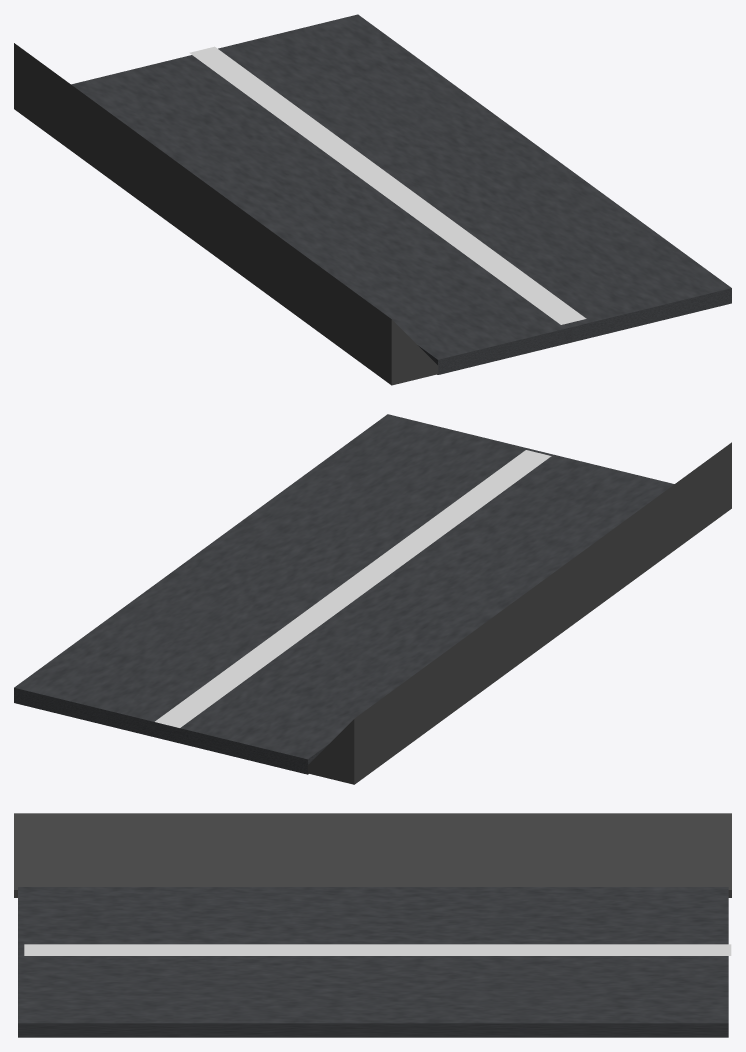
The model's file is roadTexture.fbx.
3 renders of one model, top to bottom at view 1: azimuth 30°, elevation 25°; view 2: azimuth 150°, elevation 25°; view 3: azimuth 270°, elevation 25°, orthographic. The views are drawn at different scales.
Visible parts, largest first — view 1: ROAD, Pillar; view 2: ROAD, Pillar; view 3: ROAD, Pillar.
Boxes of the visible parts, x1,y1,x2,y2 form: ROAD: (71, 14, 731, 374); Pillar: (14, 43, 438, 385); ROAD: (14, 414, 674, 774); Pillar: (308, 442, 731, 784); ROAD: (18, 887, 731, 1037); Pillar: (14, 813, 731, 897).
Bounding box in the file's own units: 276 × 53.44 × 528.
3 materials, 1 textured.
